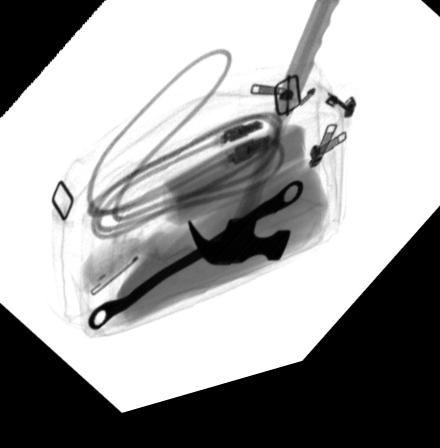Hammer: (184, 0, 352, 278)
Wrench: (85, 196, 302, 335)
